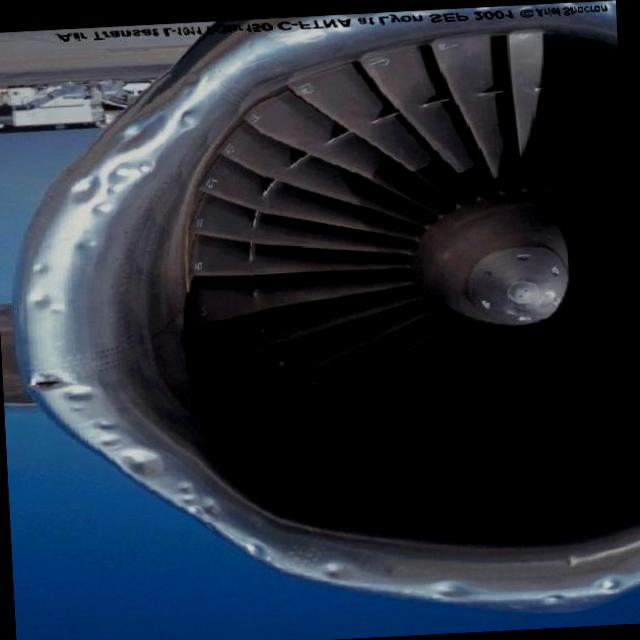dent: (61, 375, 252, 542), (34, 78, 240, 224)
